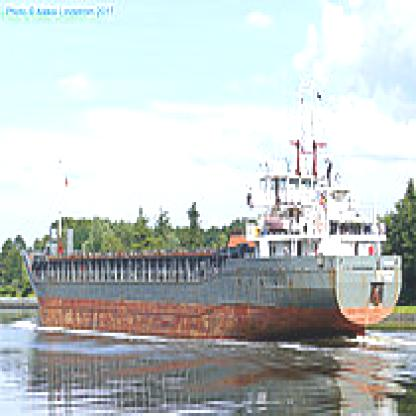Tanker: (19, 197, 405, 343)
